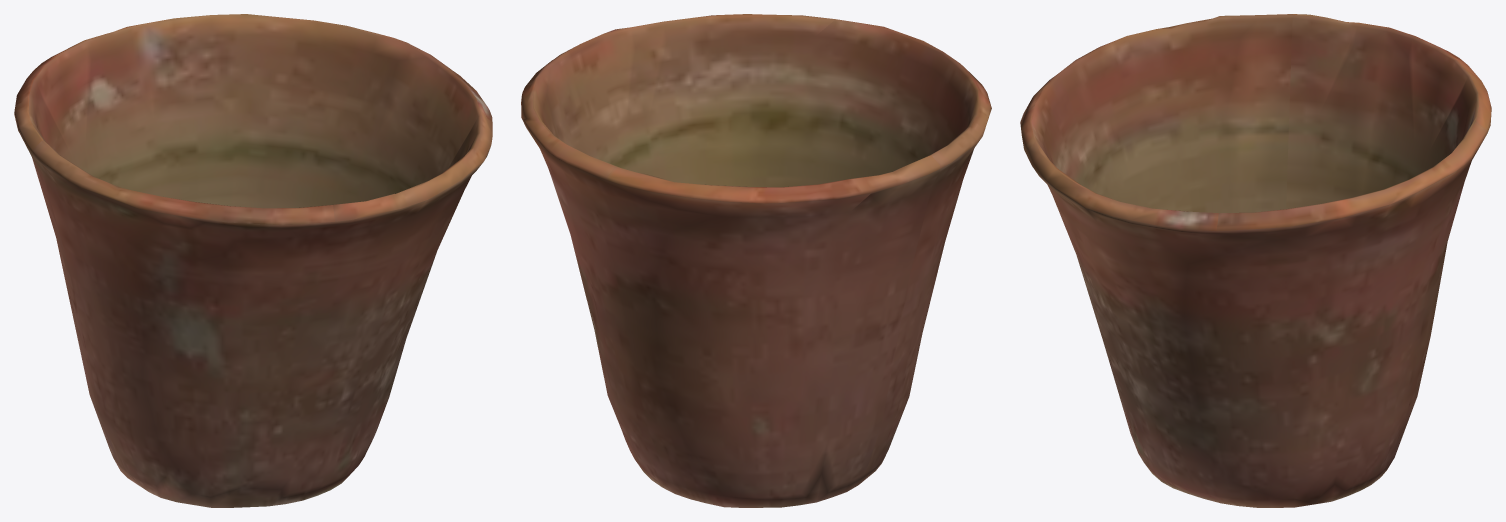
The model's file is planter_pot_clay.glb.
The picture shows the model from 3 angles, left to right: view 1: azimuth 30°, elevation 25°; view 2: azimuth 150°, elevation 25°; view 3: azimuth 270°, elevation 25°; orthographic projection.
Parts seen in each view (by area): view 1: planter_pot_clay; view 2: planter_pot_clay; view 3: planter_pot_clay.
Boxes of the visible parts, x1,y1,x2,y2 form: planter_pot_clay: [14, 14, 492, 507]; planter_pot_clay: [521, 14, 991, 507]; planter_pot_clay: [1020, 14, 1491, 507].
Size of the model in its own units: 0.2656 by 0.2218 by 0.2635.
1 material, 1 textured.
